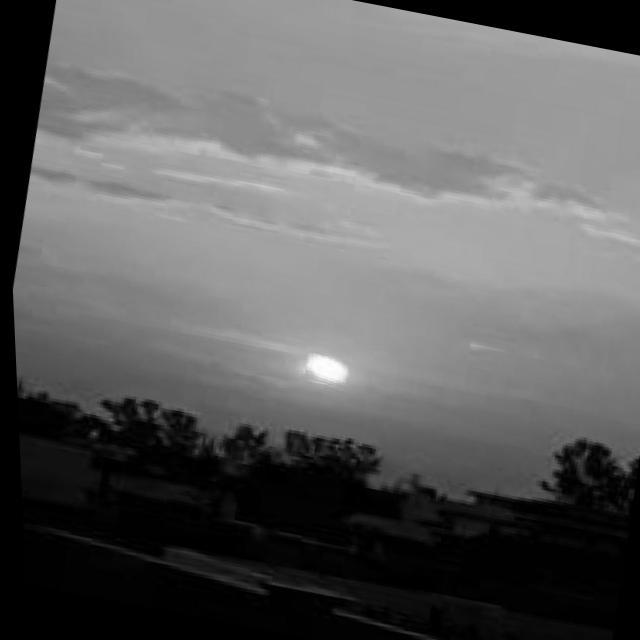sun: (301, 354, 344, 385)
